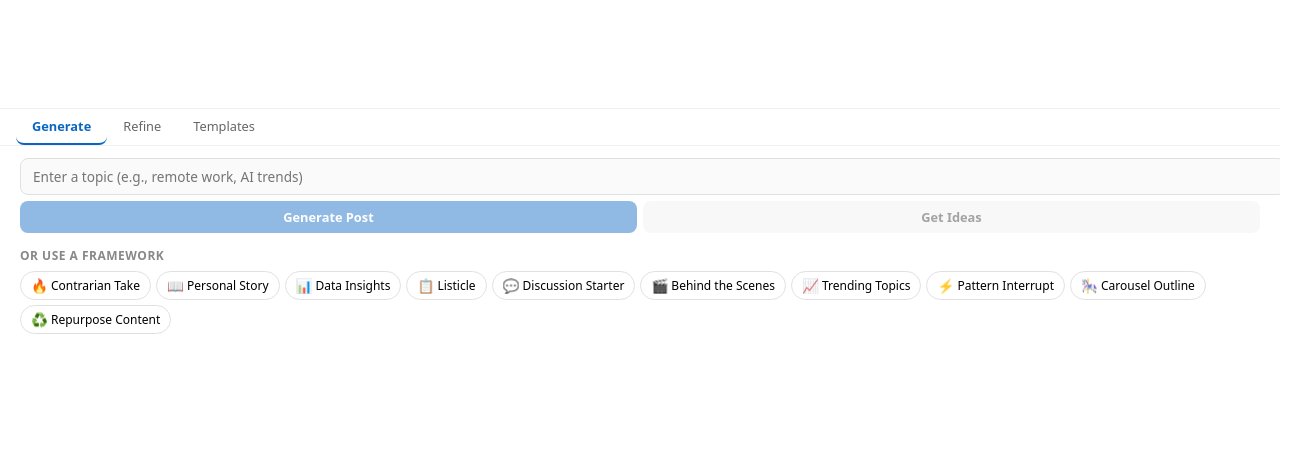
Test: AiPanel › switches to Templates tab and shows categories
Click the button "Templates" at coordinates (224, 127), box [177,109,271,145]
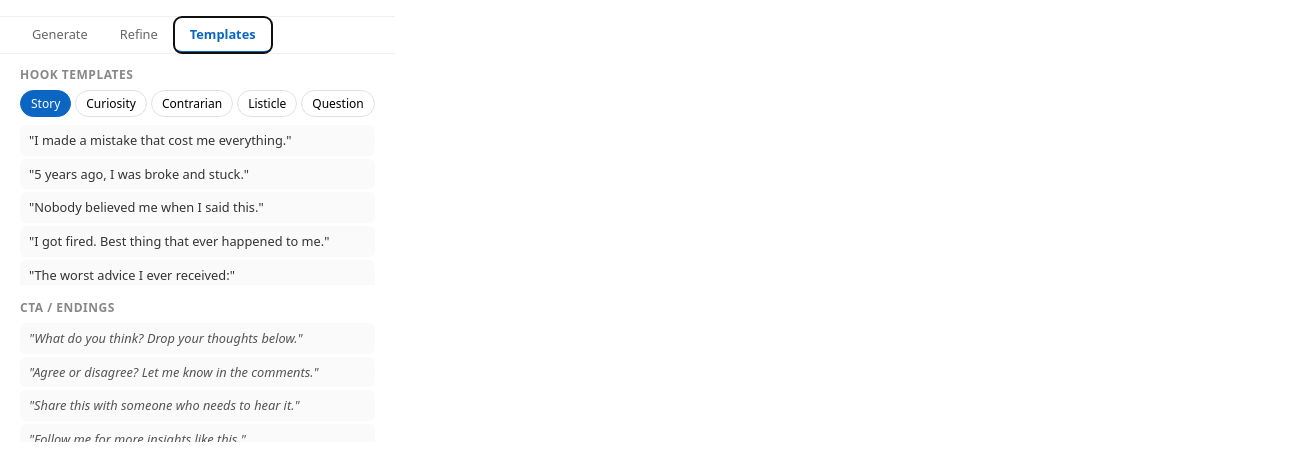
Expected: the button "Story" is shown, [20,90,71,117]
Now the button "Curiosity" is shown, box [75,90,147,117]
Now the button "Question" is shown, box [301,90,375,117]
